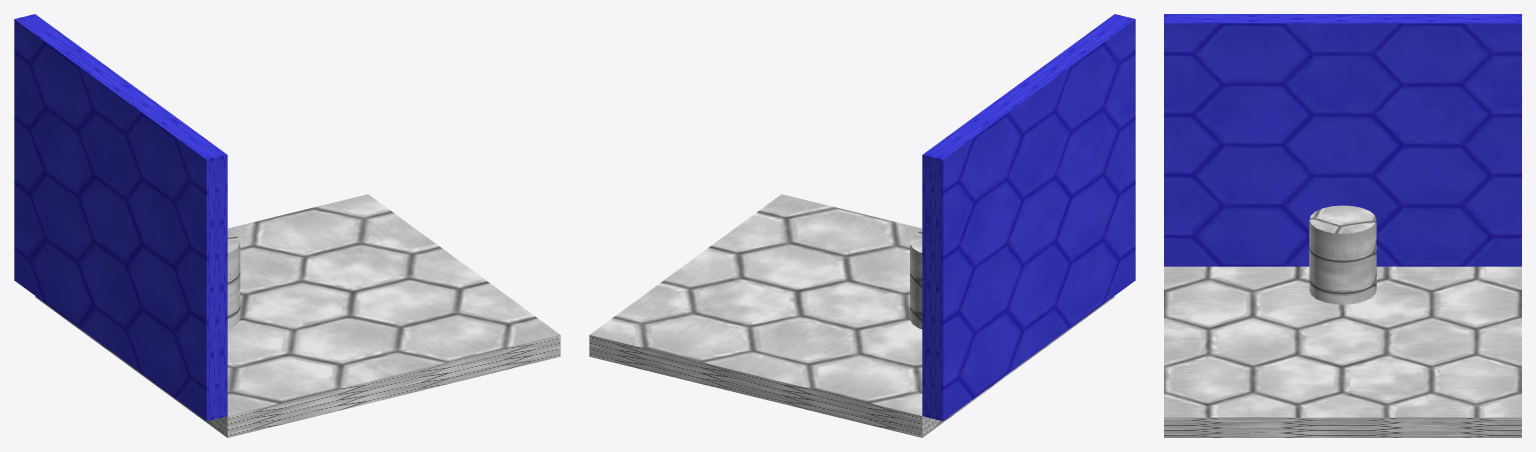
The model's file is Box_Lightmap.fbx.
The picture shows the model from 3 angles, left to right: view 1: azimuth 30°, elevation 25°; view 2: azimuth 150°, elevation 25°; view 3: azimuth 270°, elevation 25°; orthographic projection. The views are drawn at different scales.
Parts seen in each view (by area): view 1: polySurface14, polySurface19, pCylinder1; view 2: polySurface14, polySurface19, pCylinder1; view 3: polySurface14, polySurface19, pCylinder1.
Boxes of the visible parts, <box> form: polySurface14: <box>14,14,227,420</box>; polySurface19: <box>35,194,560,437</box>; pCylinder1: <box>227,231,240,329</box>; polySurface14: <box>922,14,1135,420</box>; polySurface19: <box>589,194,1114,437</box>; pCylinder1: <box>910,230,922,329</box>; polySurface14: <box>1164,14,1521,266</box>; polySurface19: <box>1164,266,1521,437</box>; pCylinder1: <box>1309,205,1376,304</box>.
Bounding box in the file's own units: 8.5 × 6.5 × 8.
2 materials, 2 textured.
